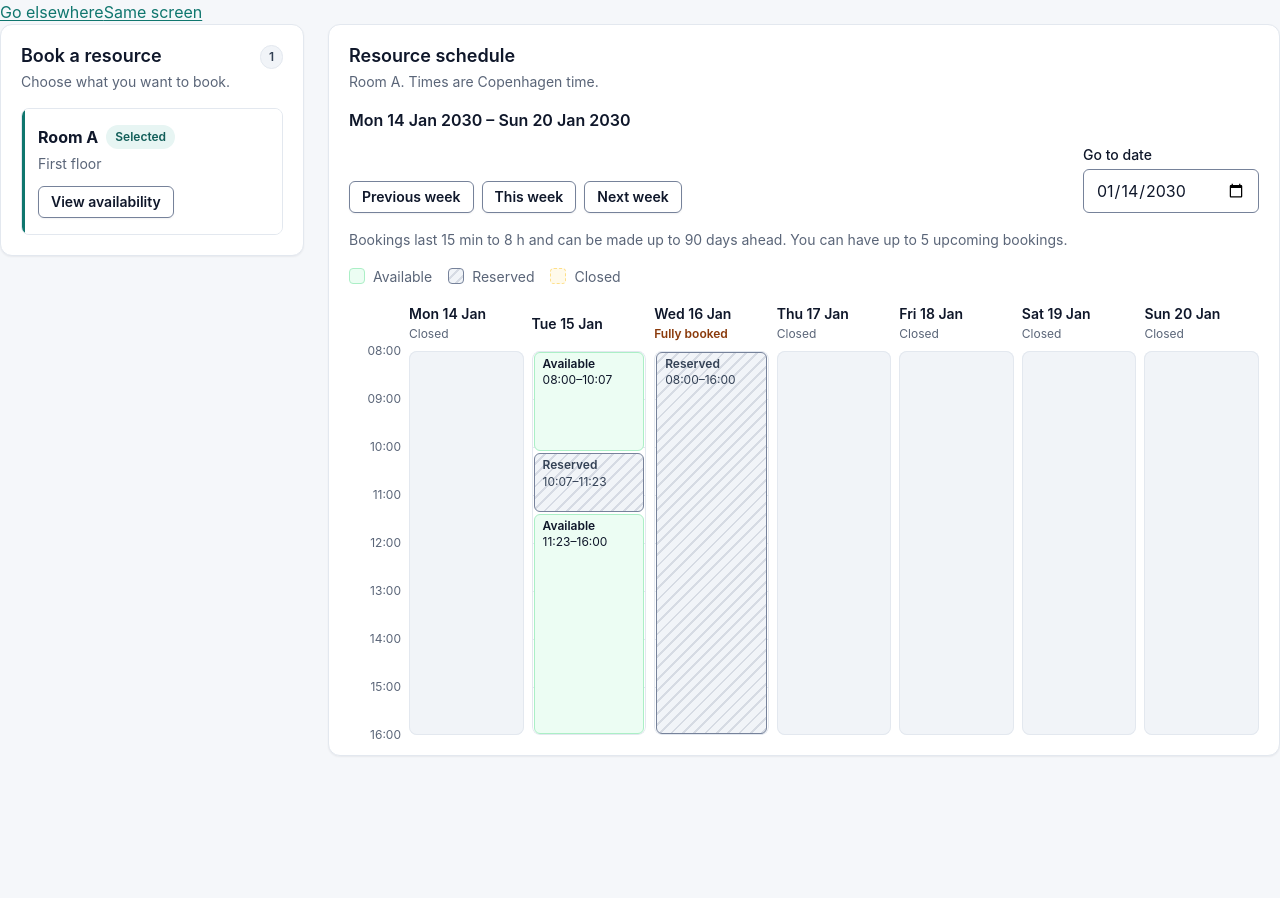
Test: BookingPage calendar › keeps the end after the start when the start moves past it
Click the button with aria-label "Available Tue 15 Jan 2030, 08:00–10:07. Choose a time" at [589, 401], box top-left (534, 352), bottom-right (644, 451)
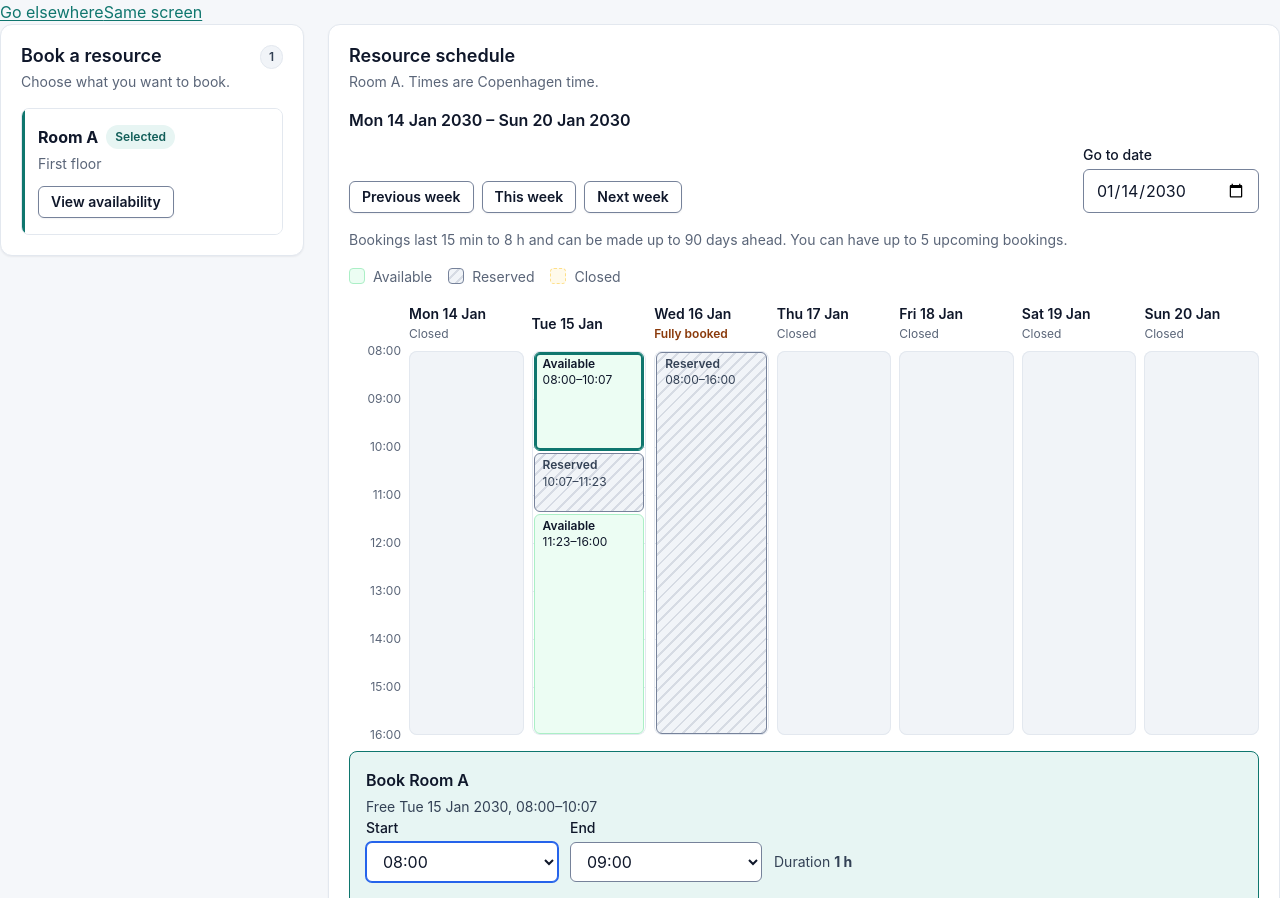
Select "09:45" in the dropdown labelled "Start" at [462, 862], box top-left (366, 842), bottom-right (558, 882)
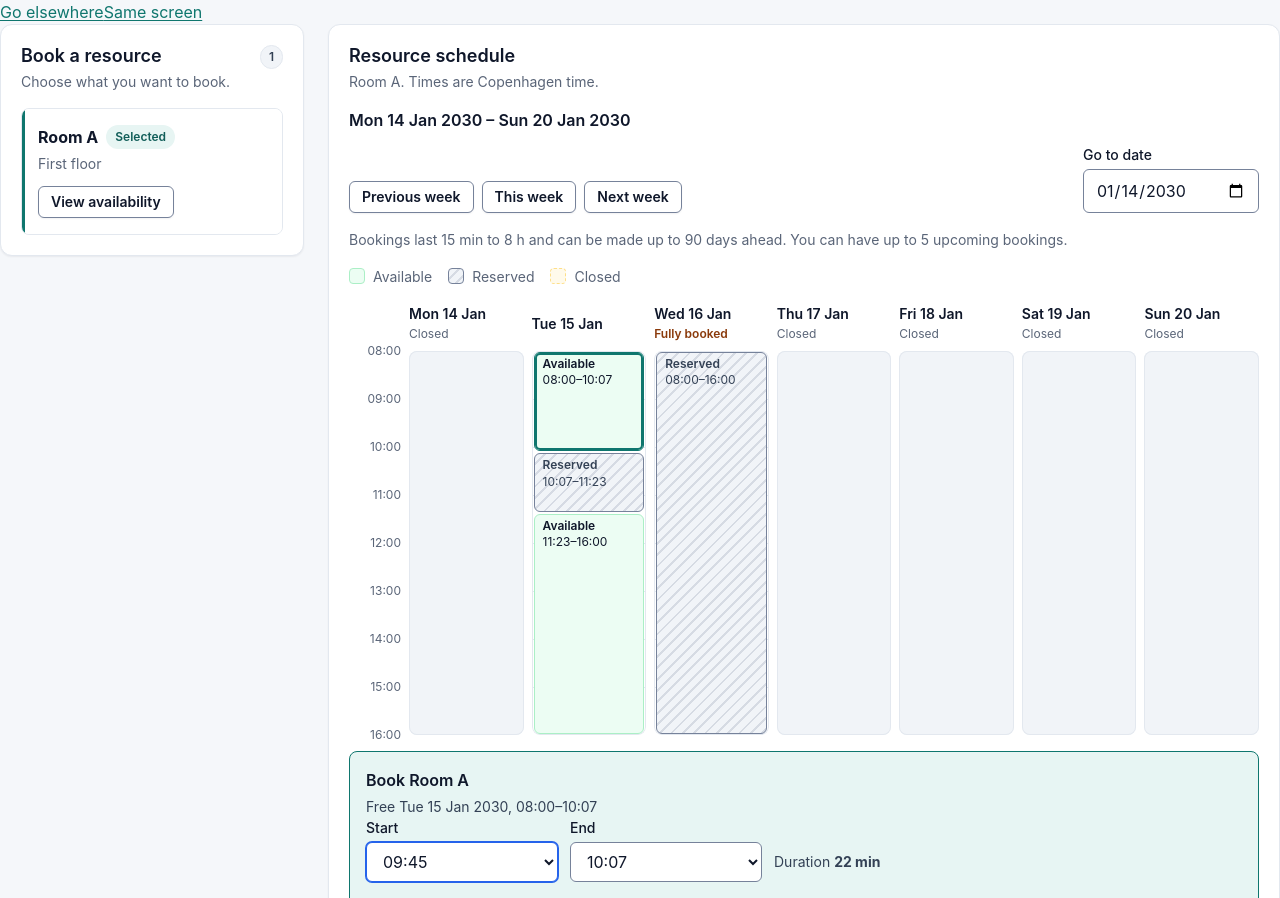
Result: the dropdown labelled "End" shows "10:07" at top-left (570, 842), bottom-right (762, 882)
